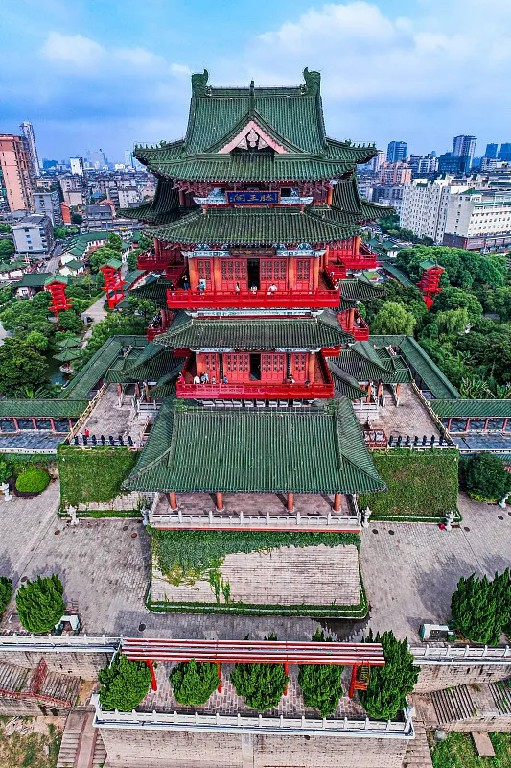Teng: (104, 66, 411, 406)
